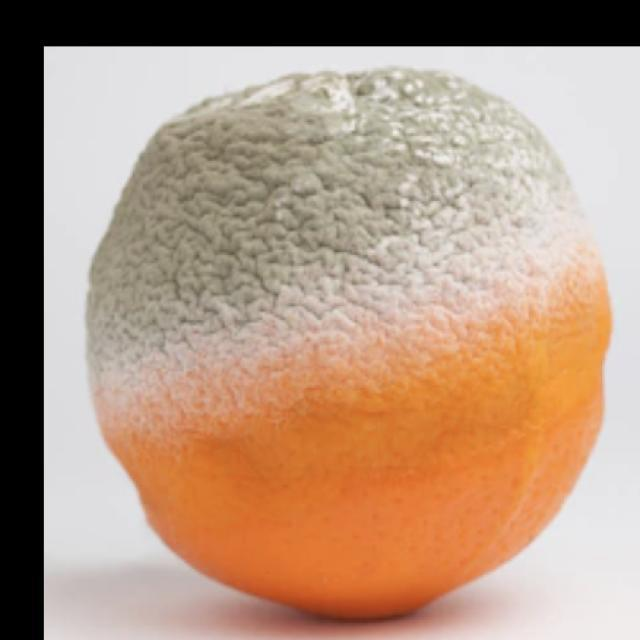sangat-busuk: (87, 68, 588, 386)
